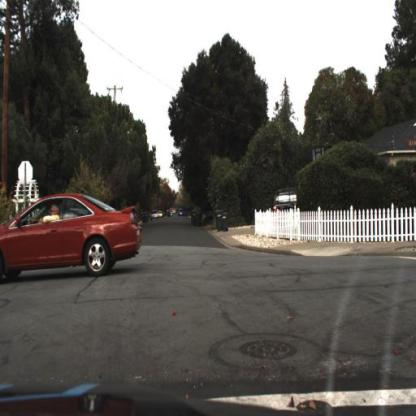car: (2, 195, 144, 283), (272, 187, 301, 211), (152, 211, 160, 223)
